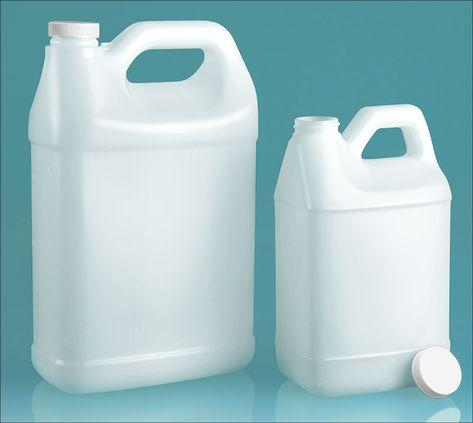HDPE: (27, 19, 259, 397), (272, 104, 465, 402), (413, 347, 462, 397)
